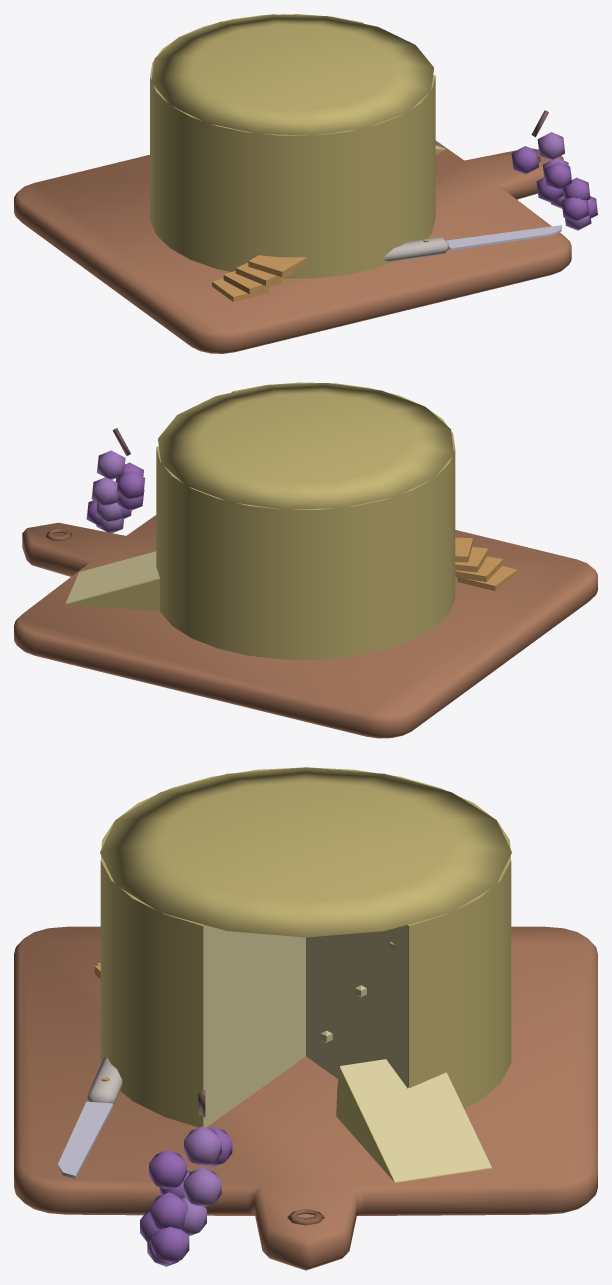
Rendered from cheese_board.glb.
The picture shows the model from 3 angles, top to bottom: view 1: azimuth 30°, elevation 25°; view 2: azimuth 150°, elevation 25°; view 3: azimuth 270°, elevation 25°; orthographic projection. The views are drawn at different scales.
Visible parts, largest first — view 1: cheese_board; view 2: cheese_board; view 3: cheese_board.
Boxes of the visible parts, x1,y1,x2,y2 form: cheese_board: (14,14,597,353); cheese_board: (14,382,597,738); cheese_board: (14,767,597,1270).
Size of what is drawn, in the model's own units: 0.45 by 0.18 by 0.35.
